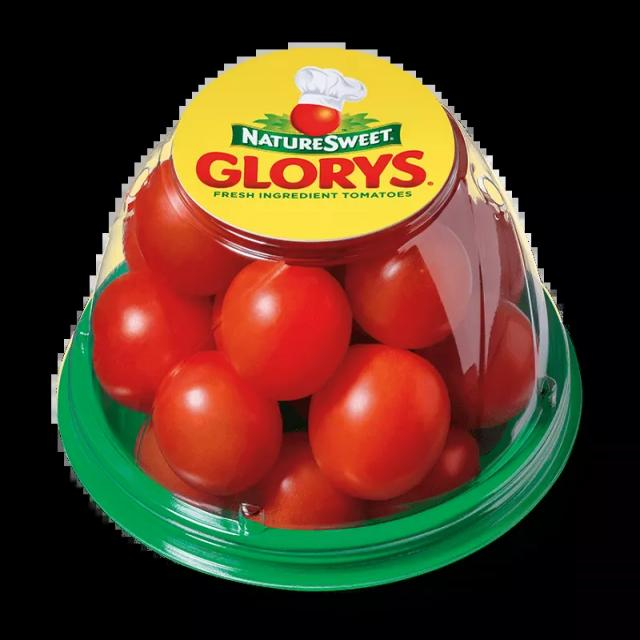tomatoes: (96, 243, 530, 480)
